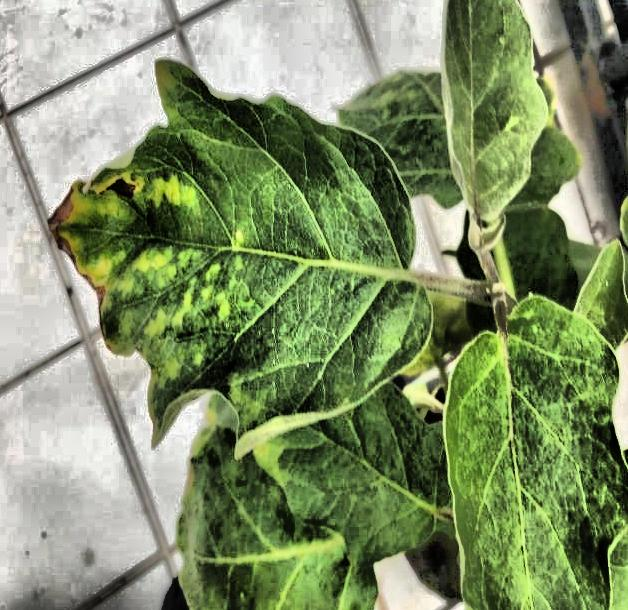Non-critical Stress: (0, 1, 628, 610)
